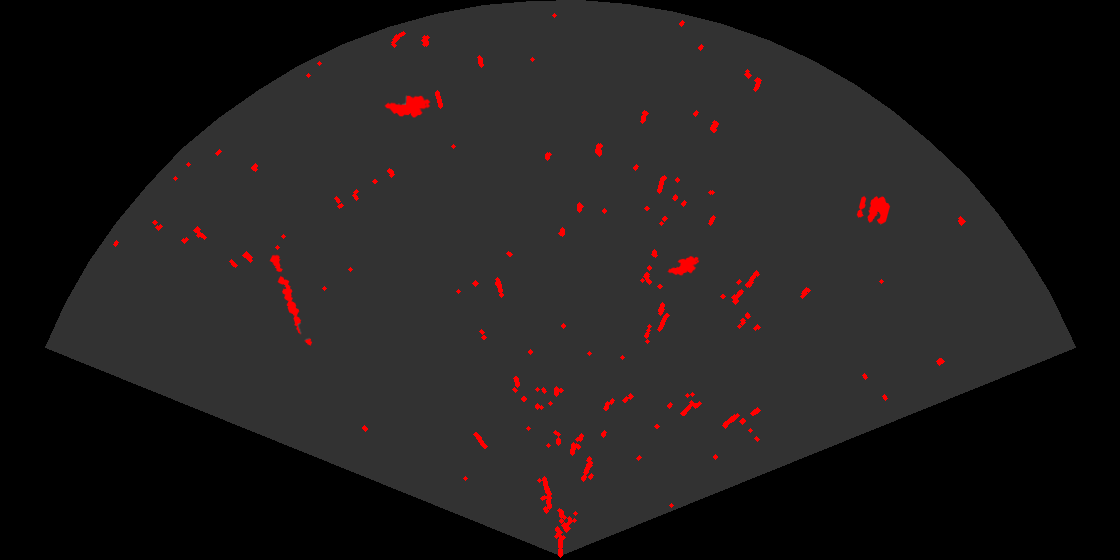AUV: (383, 94, 432, 119), (666, 254, 701, 277)
ball: (855, 194, 892, 226)
chain: (268, 252, 314, 347)
